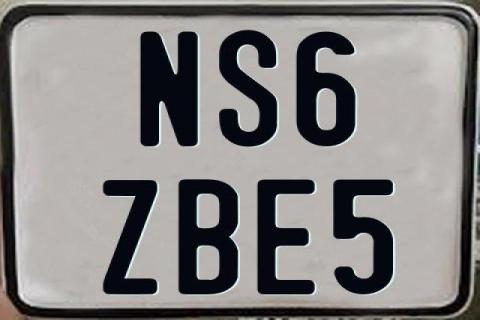0: (296, 31, 360, 150), (331, 178, 394, 298)
B: (177, 179, 242, 295)
E: (255, 178, 318, 294)
N: (137, 31, 201, 146)
S: (219, 30, 278, 150)
Z: (102, 178, 157, 296)
